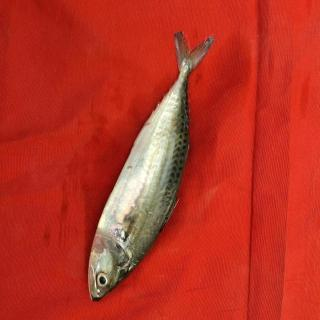Ikan: (76, 15, 222, 313)
